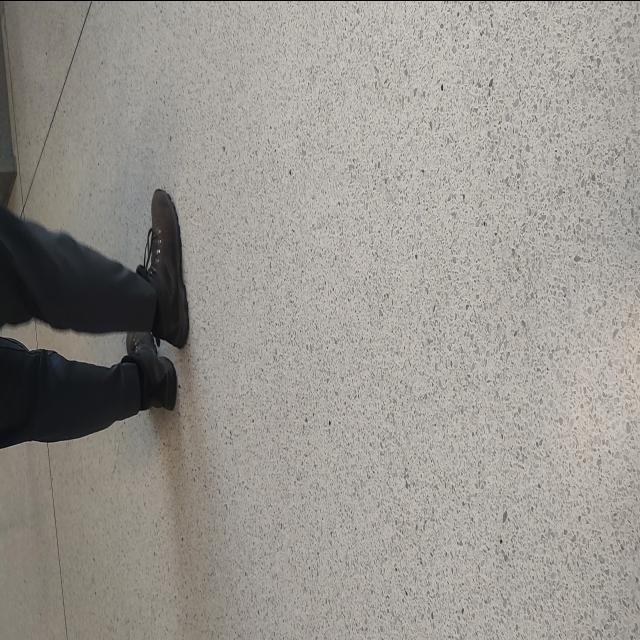Boots: (143, 182, 190, 360), (118, 315, 178, 419)
